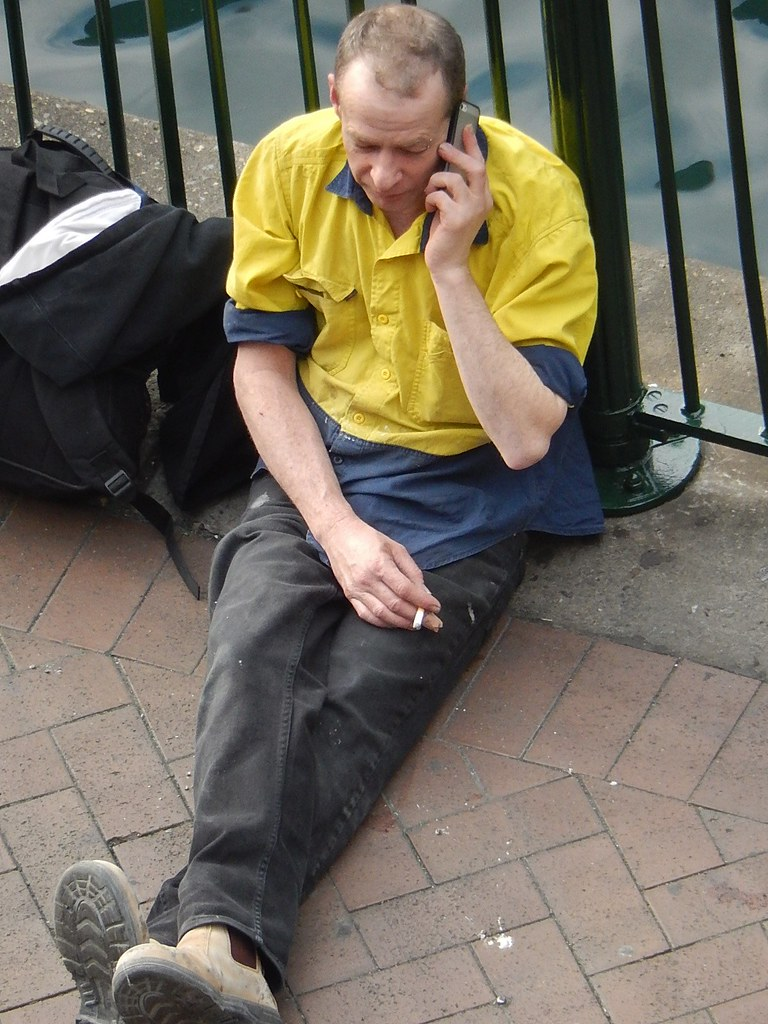phone: (447, 100, 490, 207)
talk: (334, 91, 513, 258)
